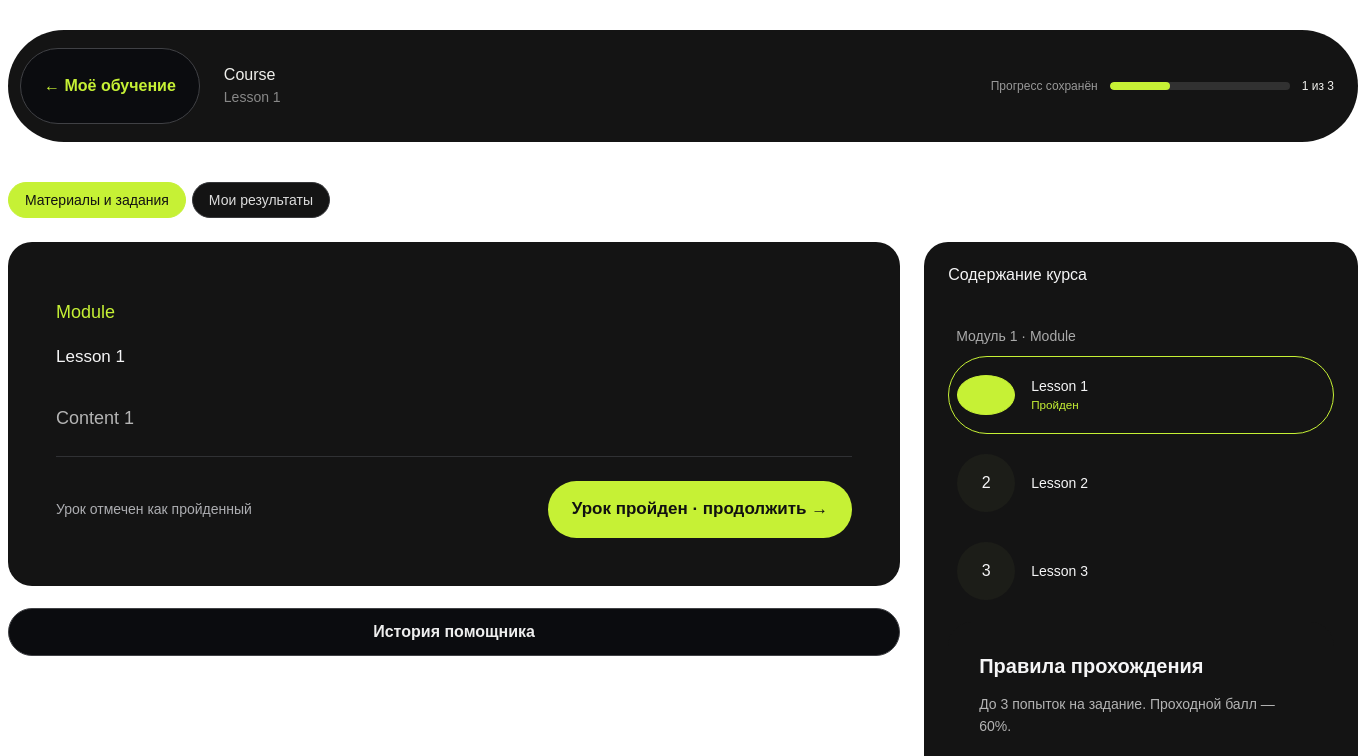
Test case: remembers opening a lesson and advances using the confirmed revision without erasing completion
Click the button "2 Lesson 2": click(986, 483) [948,444,1334,522]
(page scrolled)
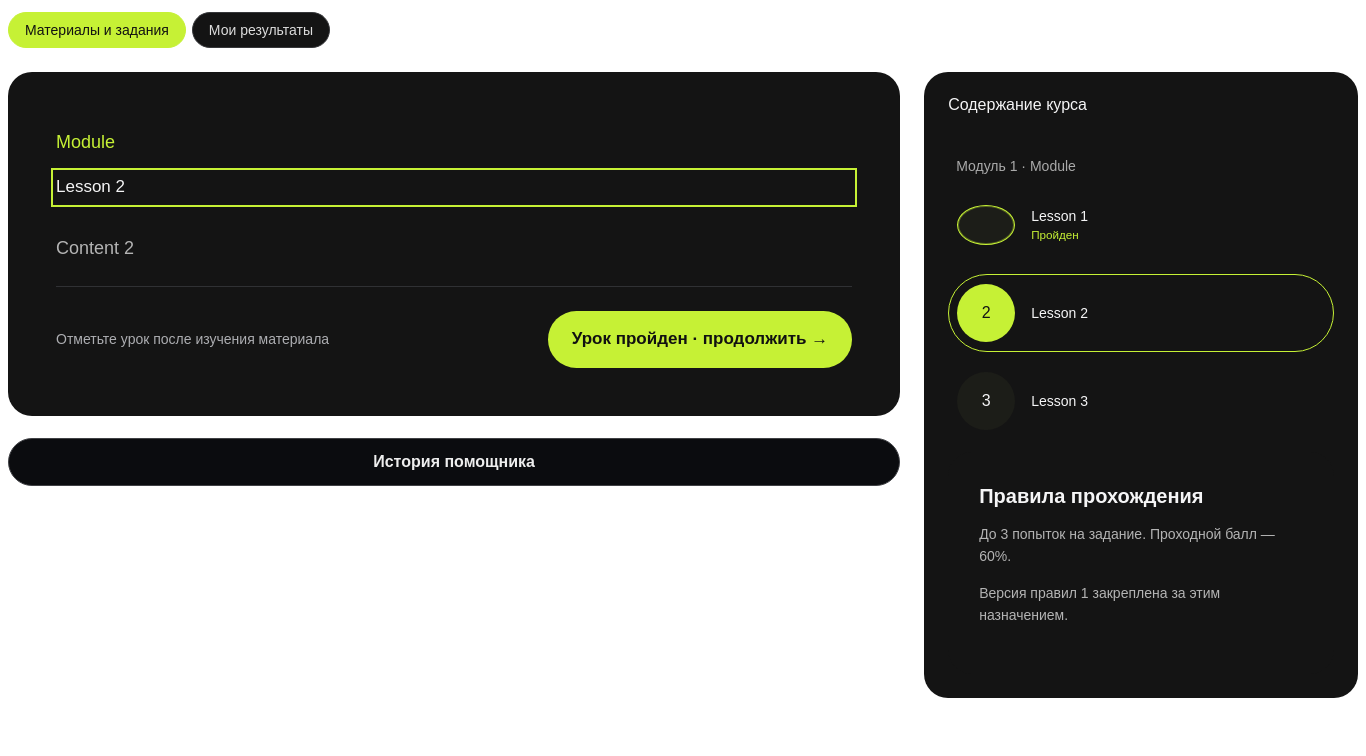
Click the button "Урок пройден · продолжить →": click(700, 340) [548,312,852,368]
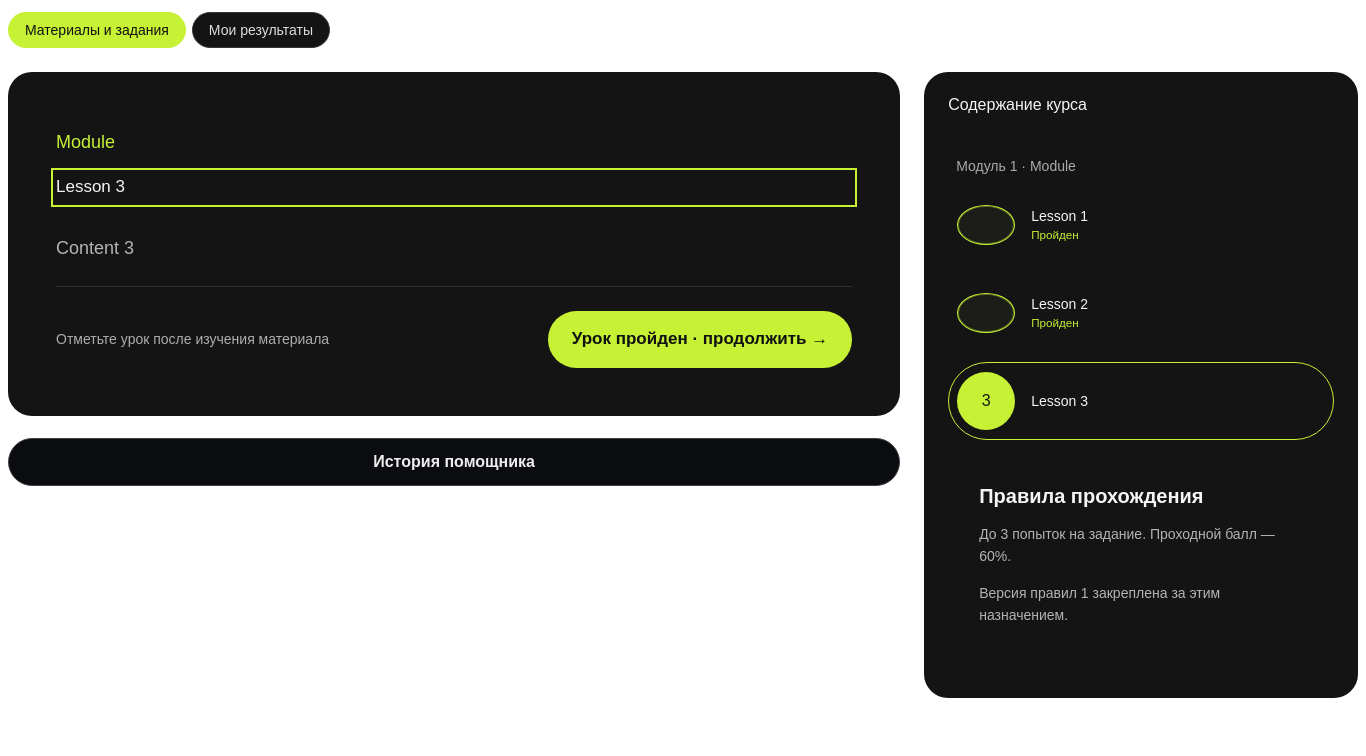
Expected: the text "Content 3" is shown, [56,238,134,258]
